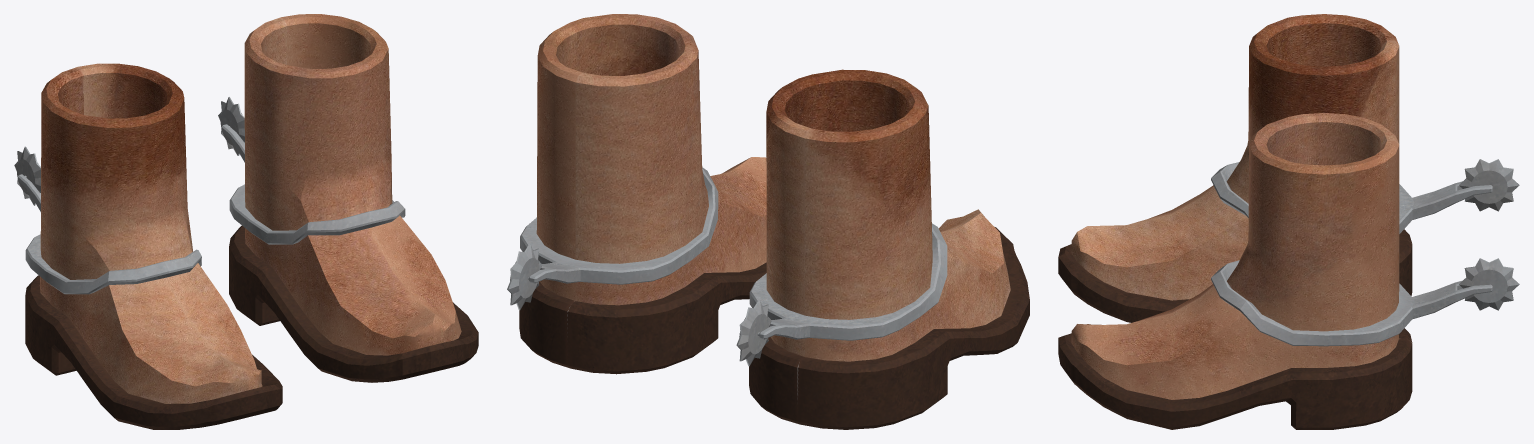
The model's file is scarpe.fbx.
The picture shows the model from 3 angles, left to right: view 1: azimuth 30°, elevation 25°; view 2: azimuth 150°, elevation 25°; view 3: azimuth 270°, elevation 25°; orthographic projection. The views are drawn at different scales.
Visible parts, largest first — view 1: scarpa_DX; view 2: scarpa_DX; view 3: scarpa_DX.
Part boxes in pixels (box(x1,y1,x2,y2)): scarpa_DX: box(14, 14, 478, 429); scarpa_DX: box(507, 14, 1029, 429); scarpa_DX: box(1058, 14, 1519, 429).
Size of the model in its own units: 1.07 by 0.7394 by 1.21.
1 material, 1 textured.
